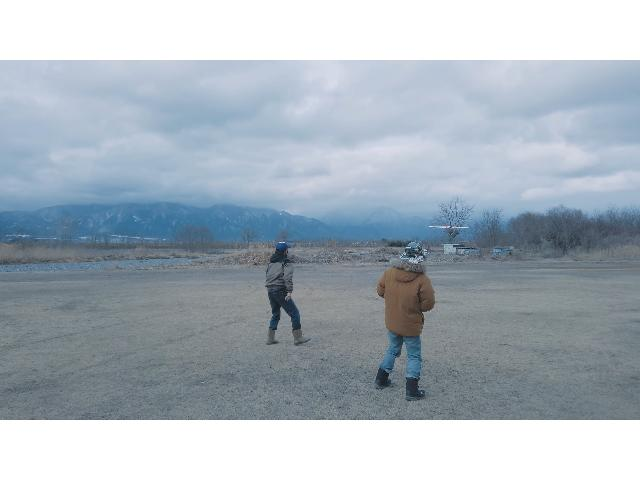Anti-Drone: (428, 222, 470, 232)
